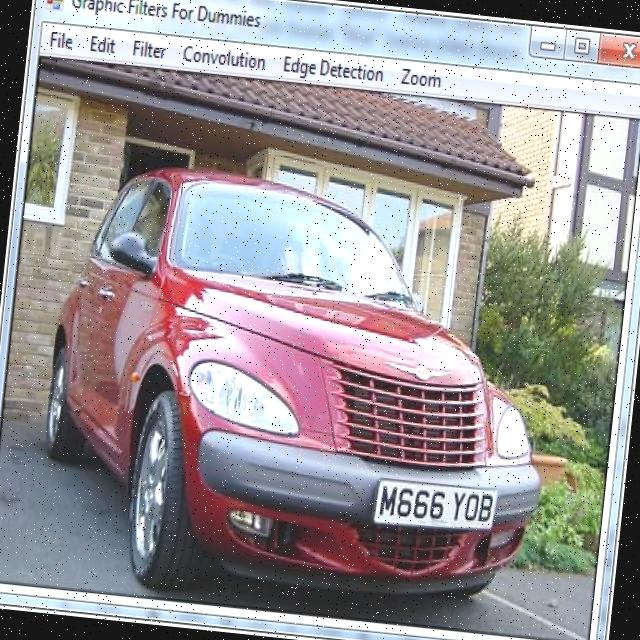Autre: (374, 479, 497, 530)
